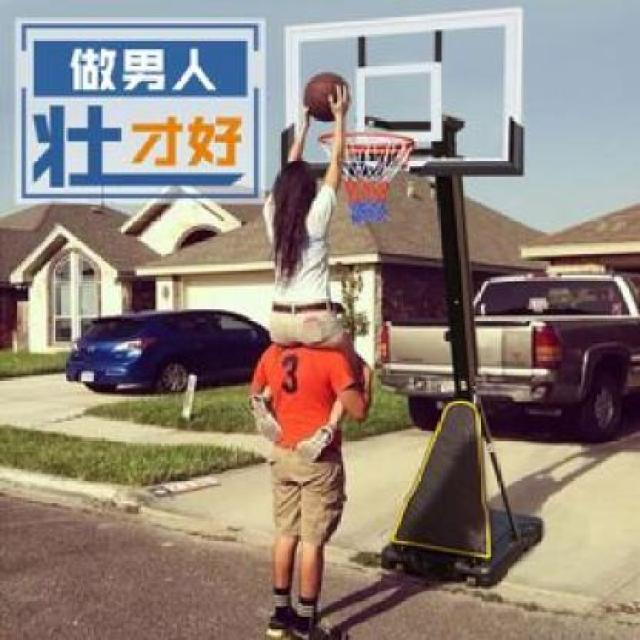basketball: (303, 72, 351, 120)
rim: (321, 132, 415, 224)
